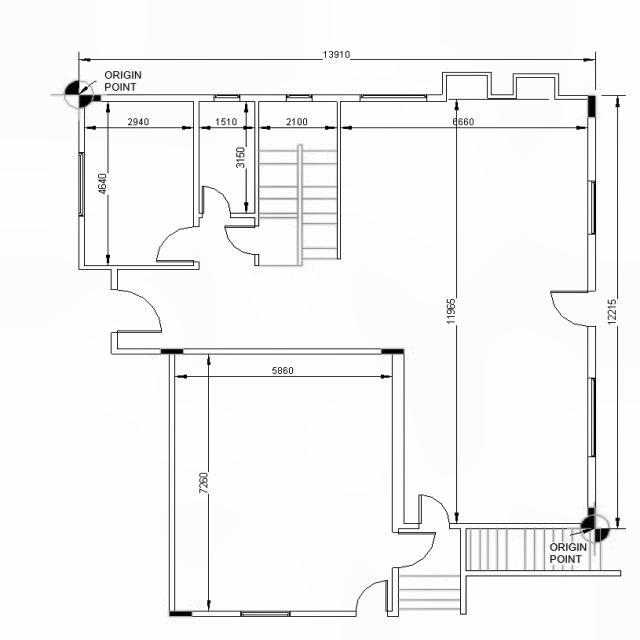Column: (588, 96, 596, 117), (588, 508, 596, 528), (79, 95, 101, 102), (169, 610, 192, 616), (160, 348, 183, 354), (382, 349, 404, 354)
Door: (110, 289, 162, 333), (550, 290, 596, 326), (156, 226, 200, 262), (392, 532, 436, 568), (418, 494, 451, 530), (356, 580, 388, 617), (224, 225, 260, 255), (202, 186, 232, 218)
Staircase: (398, 529, 622, 615), (259, 102, 337, 266)
Window: (587, 378, 596, 457), (587, 180, 596, 234), (360, 95, 427, 102), (78, 152, 85, 216), (240, 610, 290, 616), (214, 94, 240, 102), (286, 95, 312, 102)
